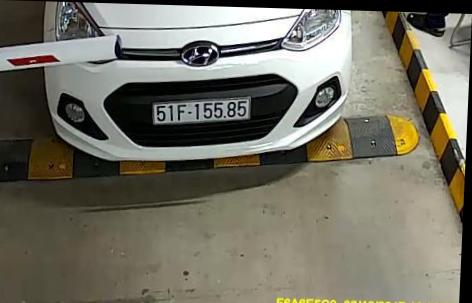License_Plate: (146, 90, 257, 132)
